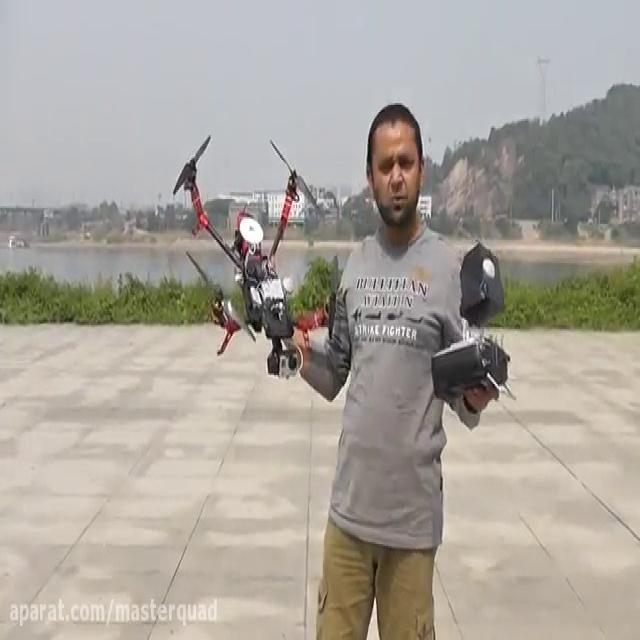drone: (167, 132, 339, 386)
